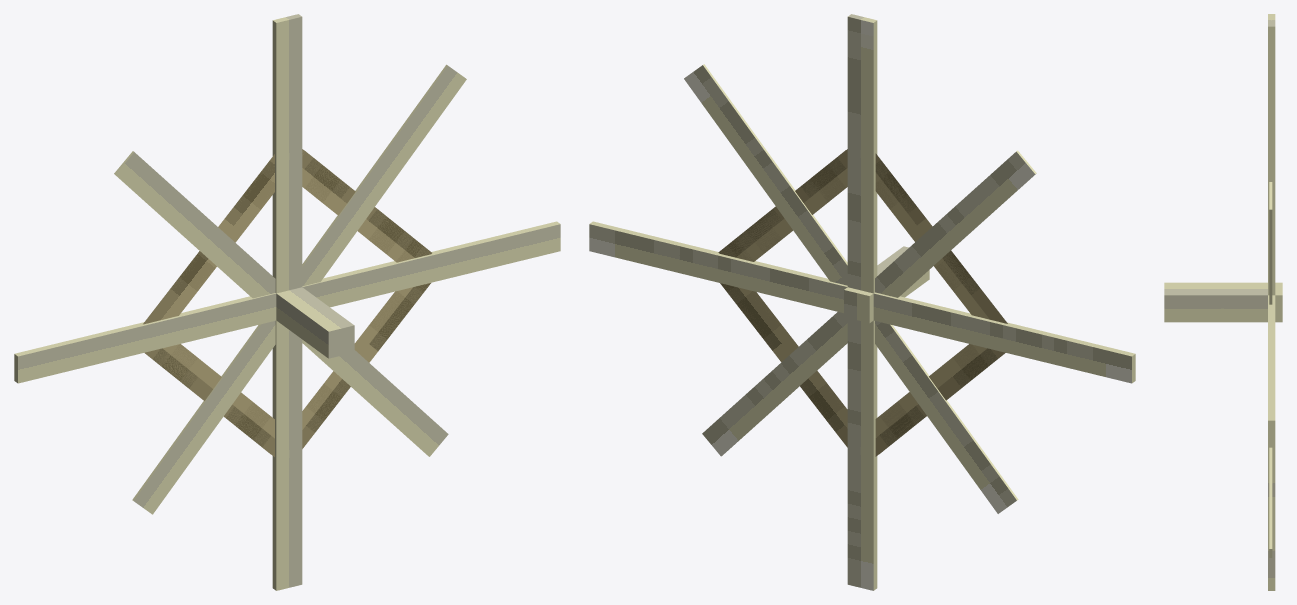
File: mill_blades.obj
3 renders of one model, left to right at view 1: azimuth 30°, elevation 25°; view 2: azimuth 150°, elevation 25°; view 3: azimuth 270°, elevation 25°, orthographic.
Visible parts, largest first — view 1: cube; view 2: cube; view 3: cube.
Part boxes in pixels (<box>): cube: <box>14,14,560,590</box>; cube: <box>589,14,1135,590</box>; cube: <box>1164,14,1282,590</box>.
Size of the model in its own units: 2.62 by 2.62 by 0.5.
Materials: 1 (1 with a texture image).
